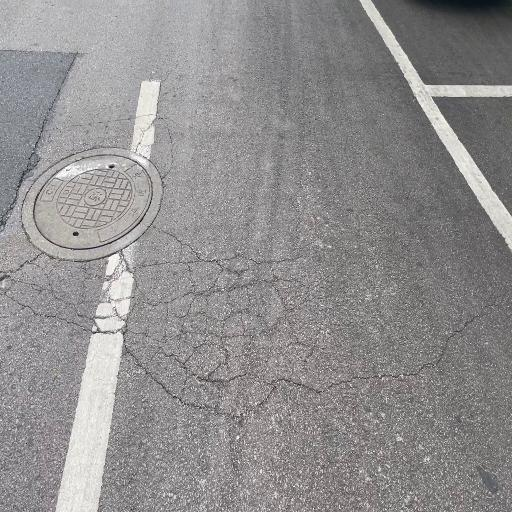Retak Buaya: (1, 237, 335, 424)
Sambungan: (0, 44, 80, 245), (28, 149, 155, 258)
